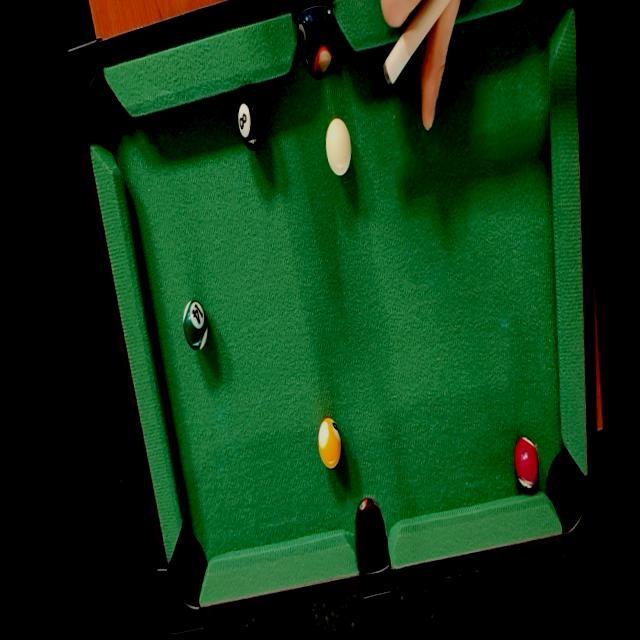cue ball: (320, 114, 354, 179)
other: (233, 85, 266, 158), (314, 411, 344, 477), (178, 293, 210, 354), (508, 434, 541, 491)
